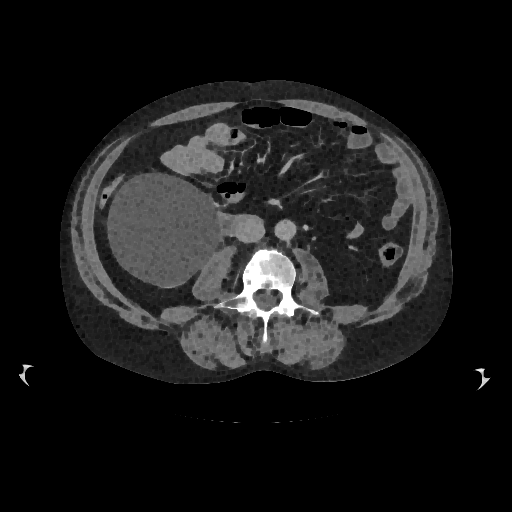Lesion: (101, 175, 220, 287)
